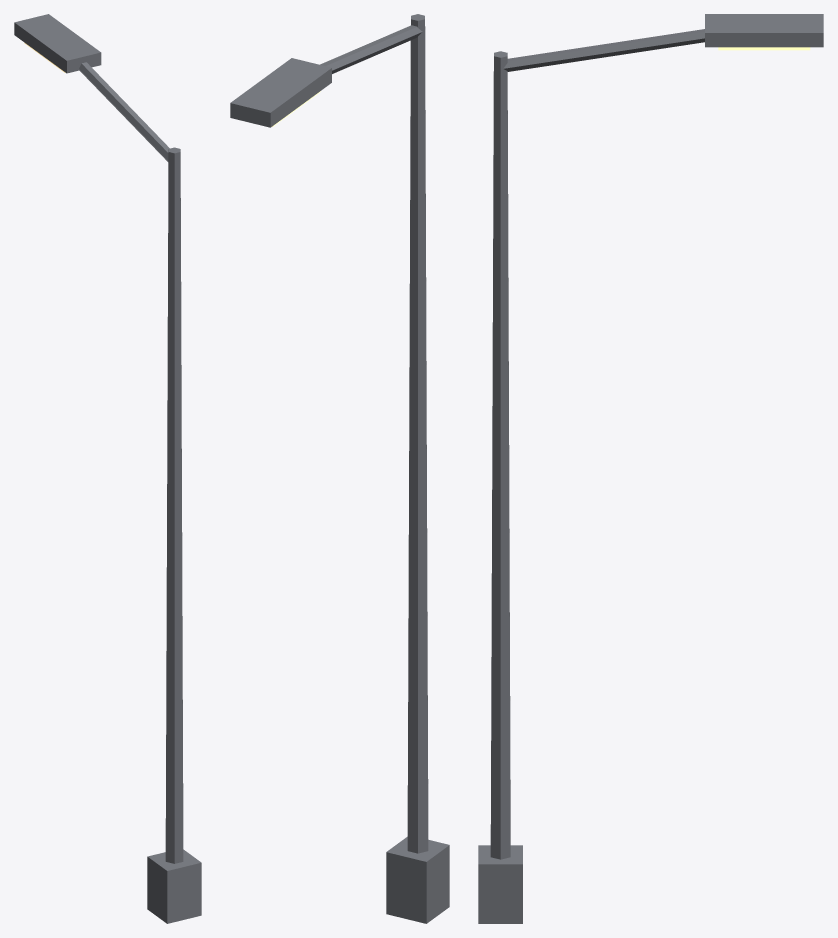
File: prop_street_lamp.glb
3 renders of one model, left to right at view 1: azimuth 30°, elevation 25°; view 2: azimuth 150°, elevation 25°; view 3: azimuth 270°, elevation 25°, orthographic. The views are drawn at different scales.
Parts seen in each view (by area): view 1: prop_street_lamp__mesh; view 2: prop_street_lamp__mesh; view 3: prop_street_lamp__mesh.
Boxes of the visible parts, box(x1,y1,x2,y2) form: prop_street_lamp__mesh: box(14, 14, 201, 923); prop_street_lamp__mesh: box(230, 14, 449, 923); prop_street_lamp__mesh: box(478, 14, 823, 923).
Bounding box in the file's own units: 0.34 × 7.46 × 2.62.
